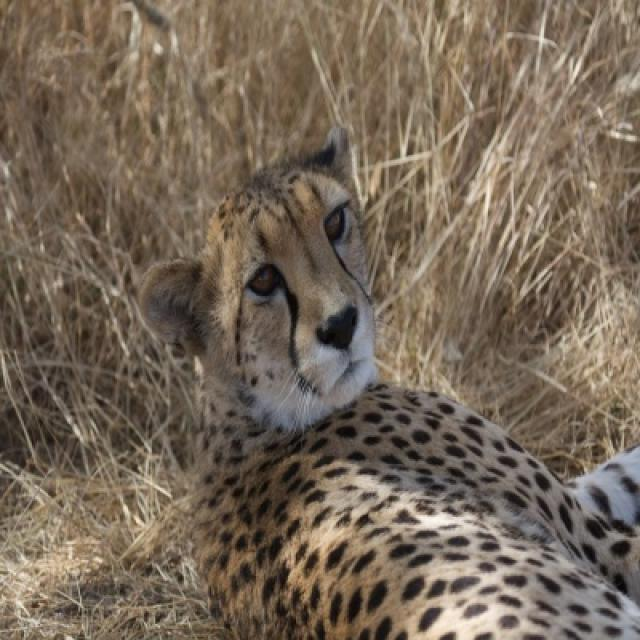Cheetah: (147, 134, 638, 637)
